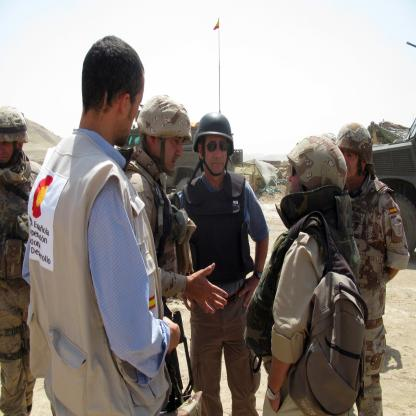Helmet: (132, 92, 192, 177), (186, 110, 235, 186), (285, 134, 348, 190), (334, 121, 374, 176), (0, 104, 29, 170)
